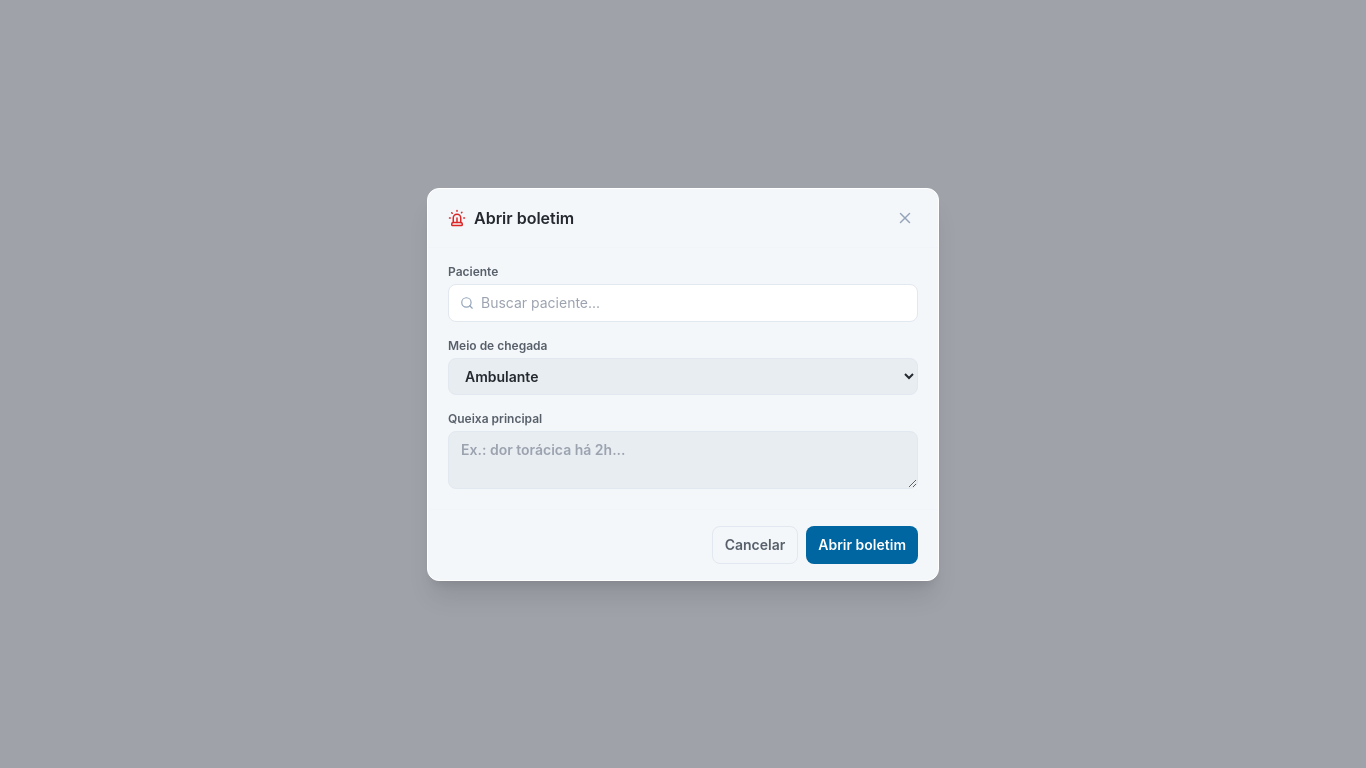
Scenario: OpenBoletimModal › requires a patient before posting
The width and height of the screenshot is (1366, 768).
Click the button "Abrir boletim".
click(862, 544)  # box x1=806 y1=526 x2=918 y2=564
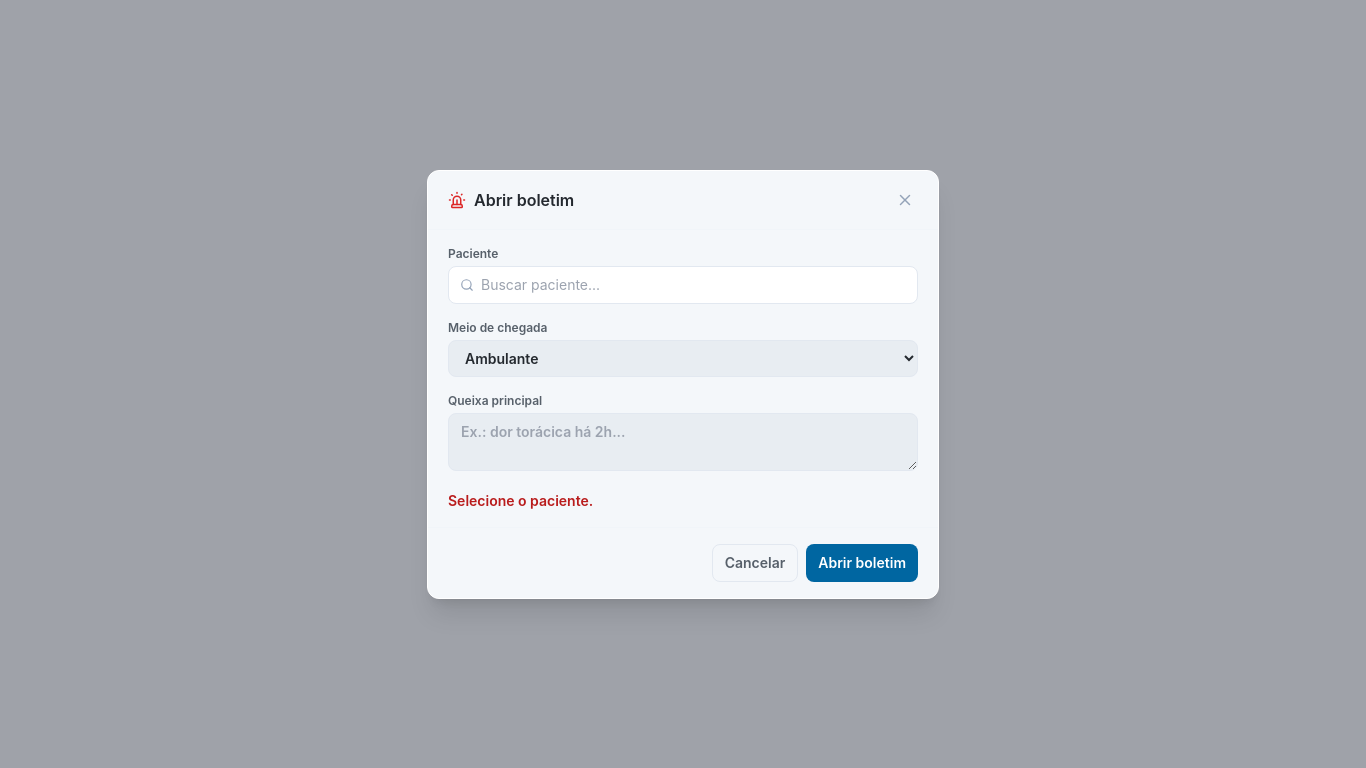
Now the text "Selecione o paciente." is shown, box x1=448 y1=492 x2=593 y2=508
